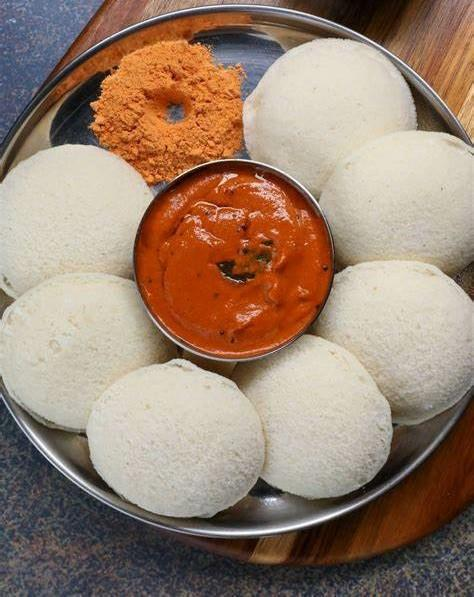Idli: (88, 360, 263, 521), (244, 40, 419, 199), (0, 271, 157, 430), (321, 258, 474, 420), (236, 333, 387, 497), (0, 149, 153, 298), (318, 131, 474, 262)
